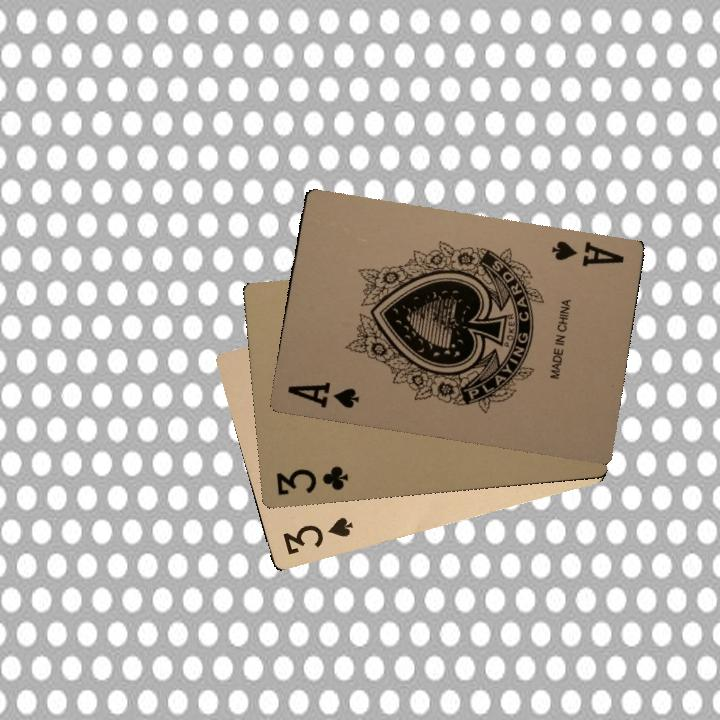3c: (272, 461, 351, 498)
3s: (279, 513, 356, 557)
As: (284, 378, 362, 411), (549, 236, 627, 269)
